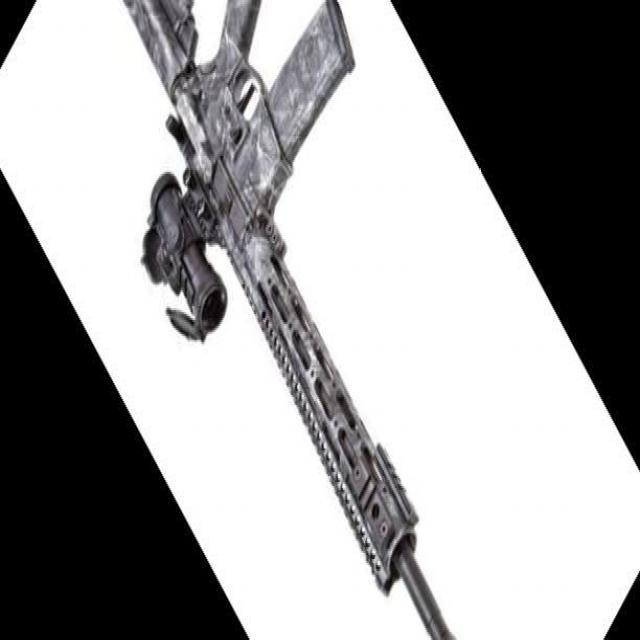weapon: (122, 0, 456, 640)
